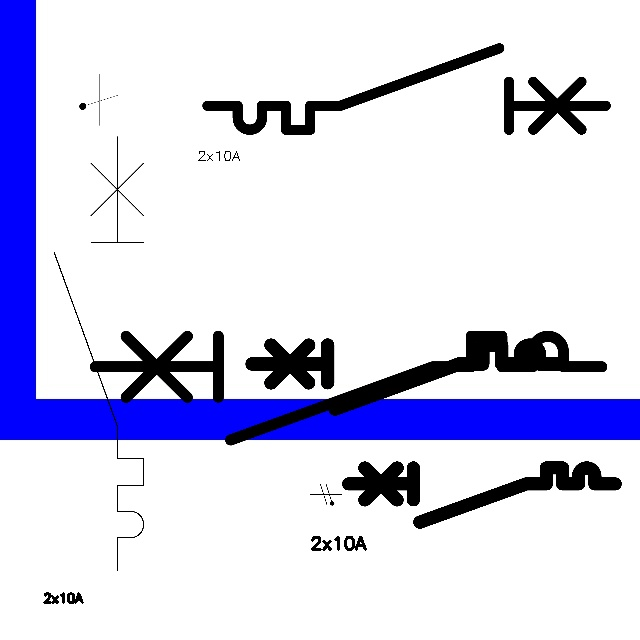interruptor_termomagnetico: (82, 323, 615, 453), (43, 125, 155, 582), (197, 38, 616, 140), (244, 337, 571, 417), (341, 461, 622, 529)
